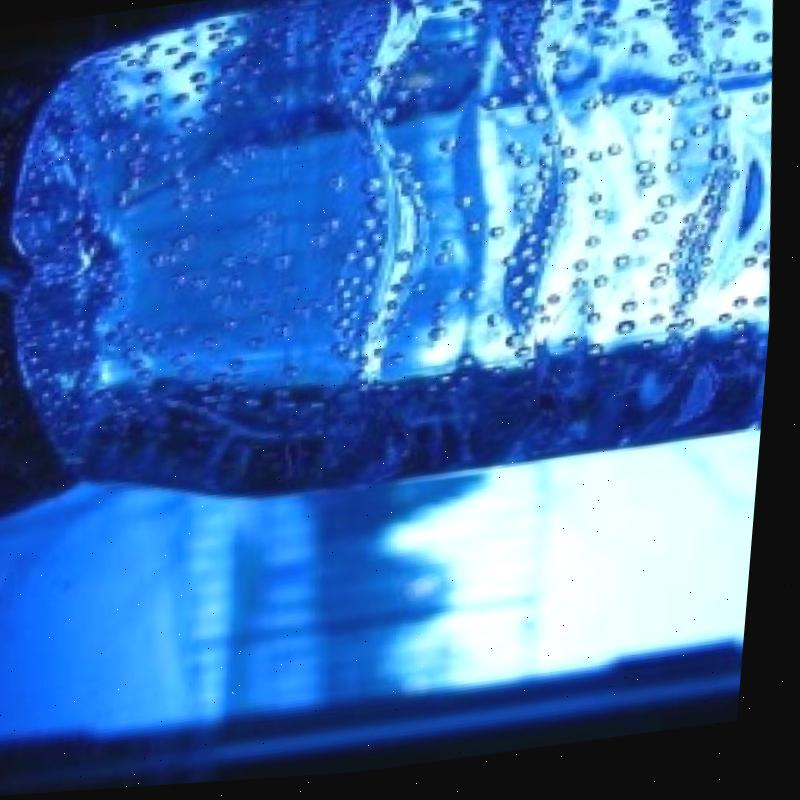botella: (0, 0, 800, 536)
